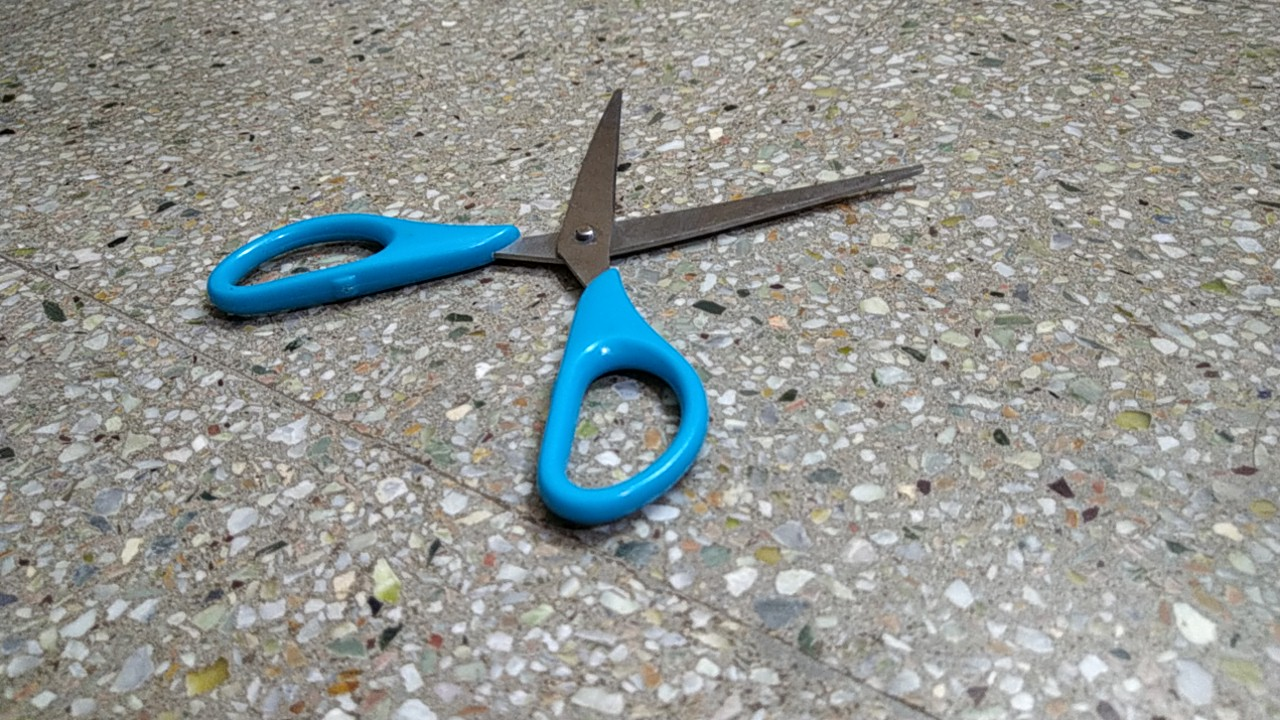scissor: (189, 75, 937, 543)
